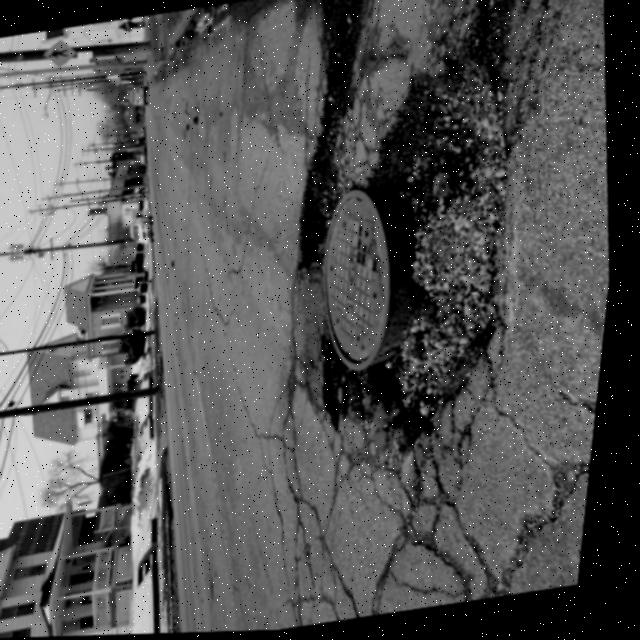Pothole: (226, 0, 619, 469)
